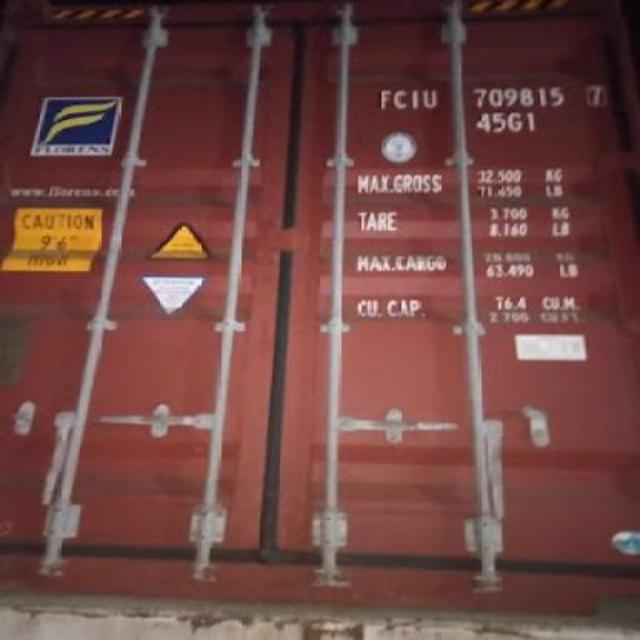0: (486, 82, 504, 110)
1: (534, 82, 548, 108)
5: (548, 79, 564, 111)
7: (584, 79, 606, 111), (470, 81, 486, 113)
8: (518, 83, 534, 107)
9: (504, 83, 516, 107)
C: (392, 86, 408, 112)
F: (376, 84, 392, 112)
I: (408, 83, 418, 113)
U: (420, 82, 440, 114)
